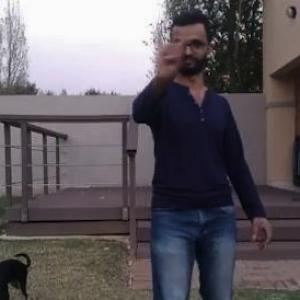takeoff-hand: (147, 26, 186, 74)
